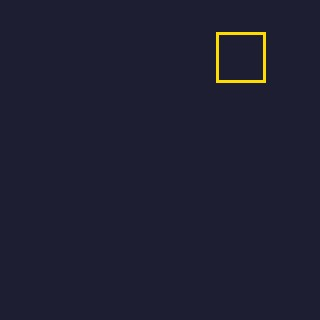drone: (216, 32, 265, 82)
